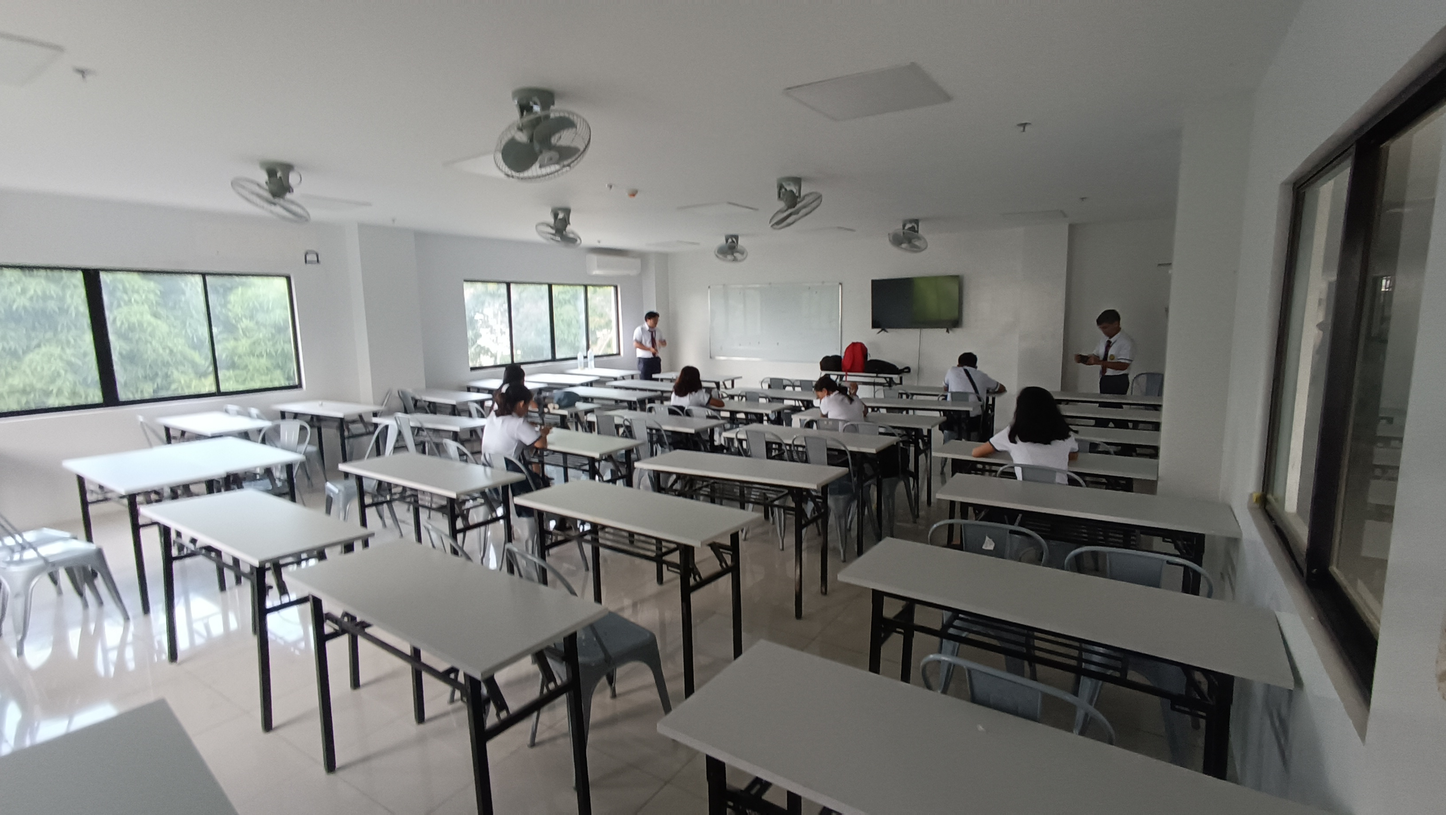with-student: (932, 385, 1164, 489), (480, 380, 645, 489), (790, 373, 946, 436), (663, 363, 787, 418), (483, 365, 601, 422), (889, 351, 1008, 403)
